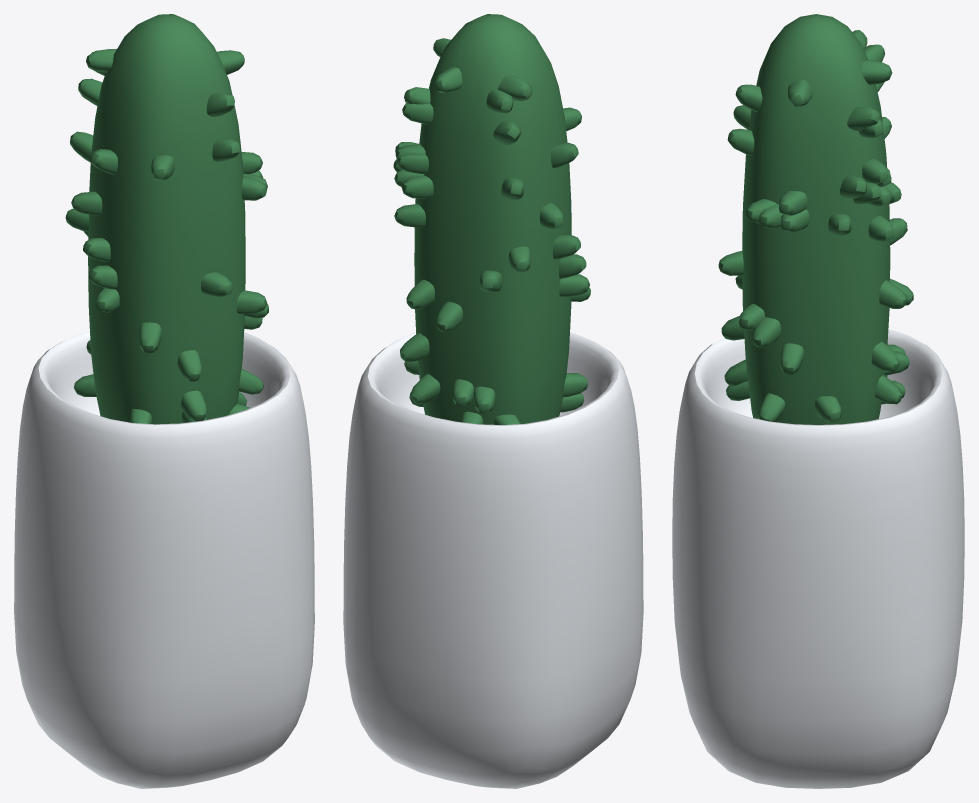
Rendered from vaso-cactus.fbx.
3 renders of one model, left to right at view 1: azimuth 30°, elevation 25°; view 2: azimuth 150°, elevation 25°; view 3: azimuth 270°, elevation 25°, orthographic.
Parts seen in each view (by area): view 1: Cube, Cube_1, Cube_1_42, Cube_1_64, Cube_1_29, Cube_1_60, Cube_1_2, Cube_1_20, Cube_1_31, Cube_1_63, Cube_1_5, Cube_1_21 (+2 smaller); view 2: Cube, Cube_1, Cube_1_52, Cube_1_25, Cube_1_46, Cube_1_62, Cube_1_9, Cube_1_21, Cube_1_49, Cube_1_19, Cube_1_50, Cube_1_24 (+3 smaller); view 3: Cube, Cube_1, Cube_1_8, Cube_1_25, Cube_1_27, Cube_1_19, Cube_1_61, Cube_1_46, Cube_1_45, Cube_1_23, Cube_1_51, Cube_1_63 (+7 smaller).
Boxes of the visible parts, x1,y1,x2,y2 form: Cube: (14, 330, 314, 788); Cube_1: (88, 14, 245, 424); Cube_1_42: (201, 272, 232, 297); Cube_1_64: (181, 390, 206, 421); Cube_1_29: (177, 350, 201, 381); Cube_1_60: (71, 191, 102, 215); Cube_1_2: (139, 322, 161, 353); Cube_1_20: (236, 290, 267, 314); Cube_1_31: (88, 265, 117, 289); Cube_1_63: (206, 93, 234, 116); Cube_1_5: (90, 149, 117, 174); Cube_1_21: (86, 49, 116, 72); Cube: (343, 332, 643, 788); Cube_1: (414, 14, 571, 424); Cube_1_52: (410, 374, 440, 404); Cube_1_25: (400, 333, 429, 361); Cube_1_46: (406, 279, 434, 309); Cube_1_62: (436, 302, 462, 332); Cube_1_9: (402, 175, 433, 198); Cube_1_21: (498, 74, 532, 101); Cube_1_49: (394, 204, 425, 227); Cube_1_19: (434, 67, 462, 92); Cube_1_50: (559, 274, 589, 296); Cube_1_24: (552, 235, 580, 259); Cube: (672, 329, 964, 788); Cube_1: (742, 14, 890, 424); Cube_1_8: (752, 317, 780, 347); Cube_1_25: (871, 341, 899, 372); Cube_1_27: (780, 343, 803, 374); Cube_1_19: (861, 60, 892, 85); Cube_1_61: (847, 106, 879, 131); Cube_1_46: (879, 280, 906, 308); Cube_1_45: (779, 191, 807, 215); Cube_1_23: (815, 396, 841, 422); Cube_1_51: (758, 393, 785, 421); Cube_1_63: (735, 84, 762, 112).
Bounding box in the file's own units: 47.79 × 135 × 47.79.
